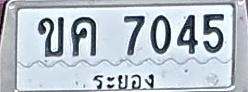0: (150, 14, 171, 54)
4: (176, 14, 198, 54)
5: (202, 13, 224, 53)
7: (123, 15, 145, 55)
A02: (37, 16, 64, 57)
A04: (70, 16, 96, 56)
RYG: (89, 69, 158, 92)
